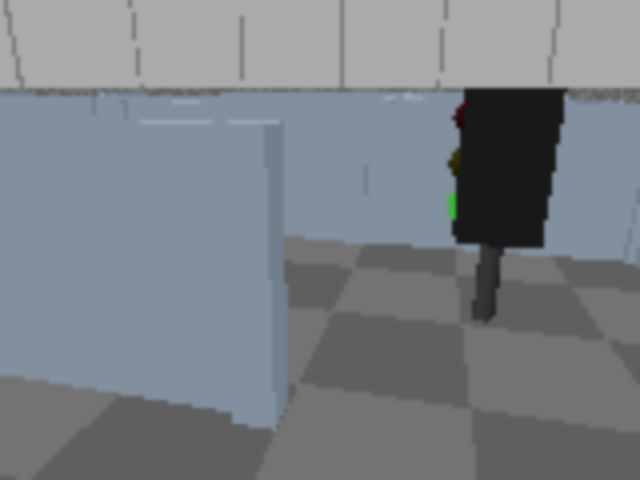traffic_light: (446, 73, 569, 339)
